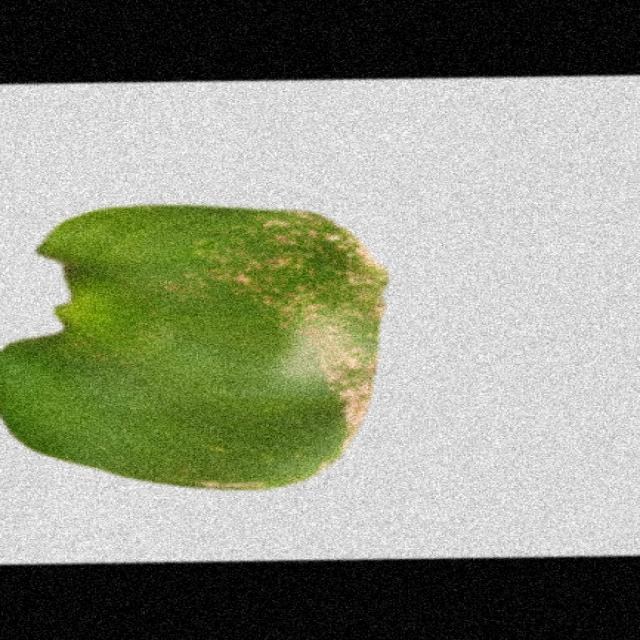daun berpenyakit bercak: (2, 206, 387, 491)
